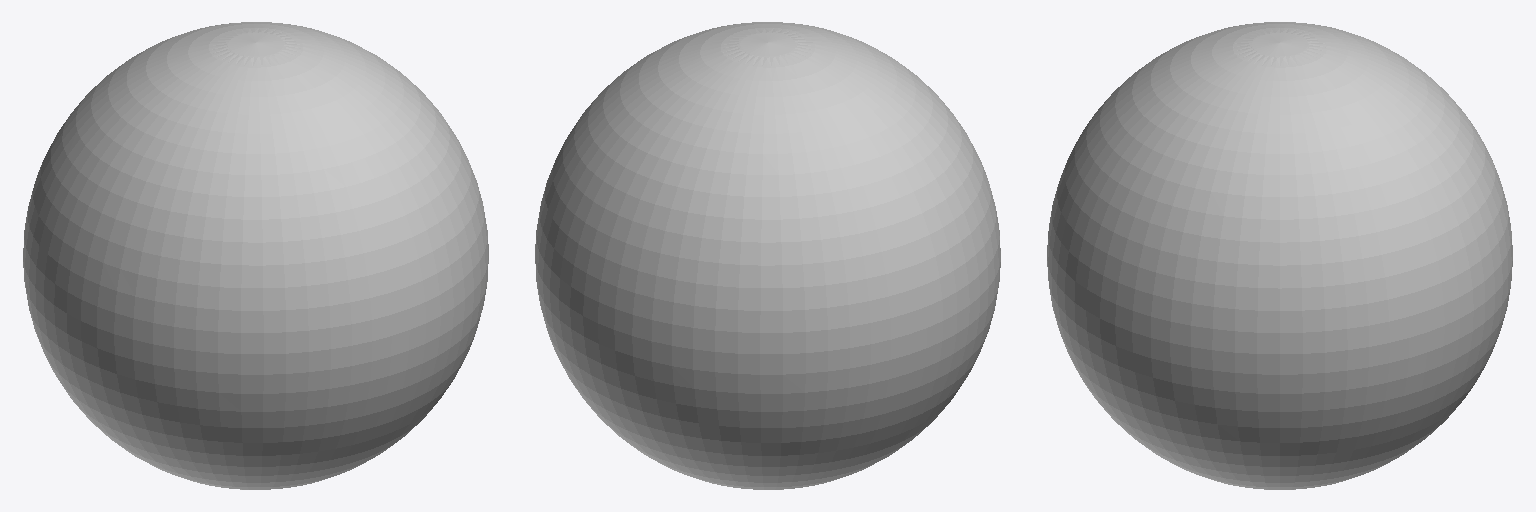
File: ball.obj
3 views of the same model, side by side, from view 1: azimuth 30°, elevation 25°; view 2: azimuth 150°, elevation 25°; view 3: azimuth 270°, elevation 25° (orthographic).
Parts seen in each view (by area): view 1: Sphere.001_Sphere.007; view 2: Sphere.001_Sphere.007; view 3: Sphere.001_Sphere.007.
Part boxes in pixels (x1,y1,x2,y2): Sphere.001_Sphere.007: (23,22,488,489); Sphere.001_Sphere.007: (535,22,1000,489); Sphere.001_Sphere.007: (1047,22,1512,489).
Size of the model in its own units: 0.1086 by 0.1097 by 0.1086.